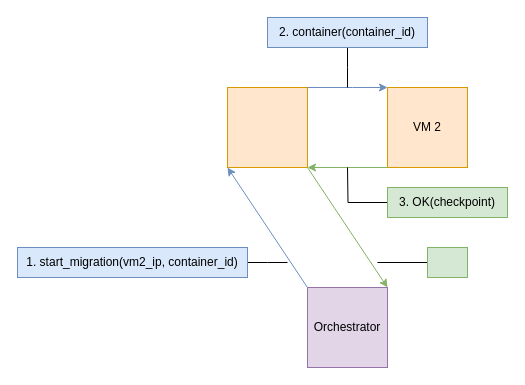
The diagram is 525 pixels wide and 385 high, and some of its shapes have lost their labels. Here are the shapes that lost their labels. From the top down, the box of each, then its label:
(226, 86, 308, 168): VM 1
(426, 246, 468, 278): 4. OK
